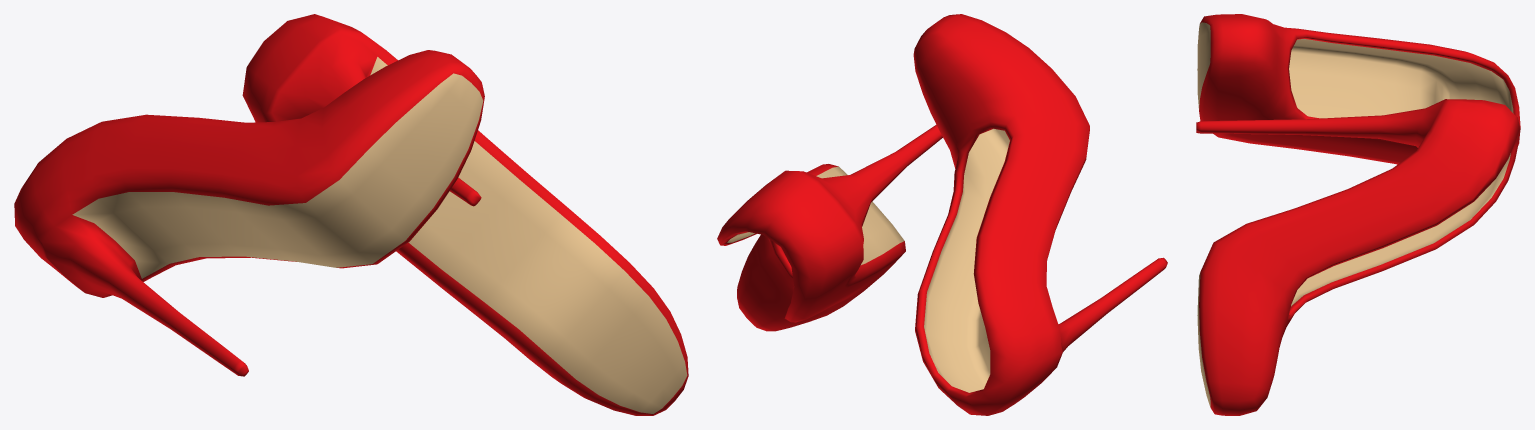
The model's file is Highheels.fbx.
3 renders of one model, left to right at view 1: azimuth 30°, elevation 25°; view 2: azimuth 150°, elevation 25°; view 3: azimuth 270°, elevation 25°, orthographic. The views are drawn at different scales.
Visible parts, largest first — view 1: Plane.004; view 2: Plane.004; view 3: Plane.004.
Part boxes in pixels (<box>): Plane.004: <box>14,14,688,415</box>; Plane.004: <box>717,14,1167,415</box>; Plane.004: <box>1196,14,1520,415</box>.
Bounding box in the file's own units: 4.02 × 3.05 × 2.87.
